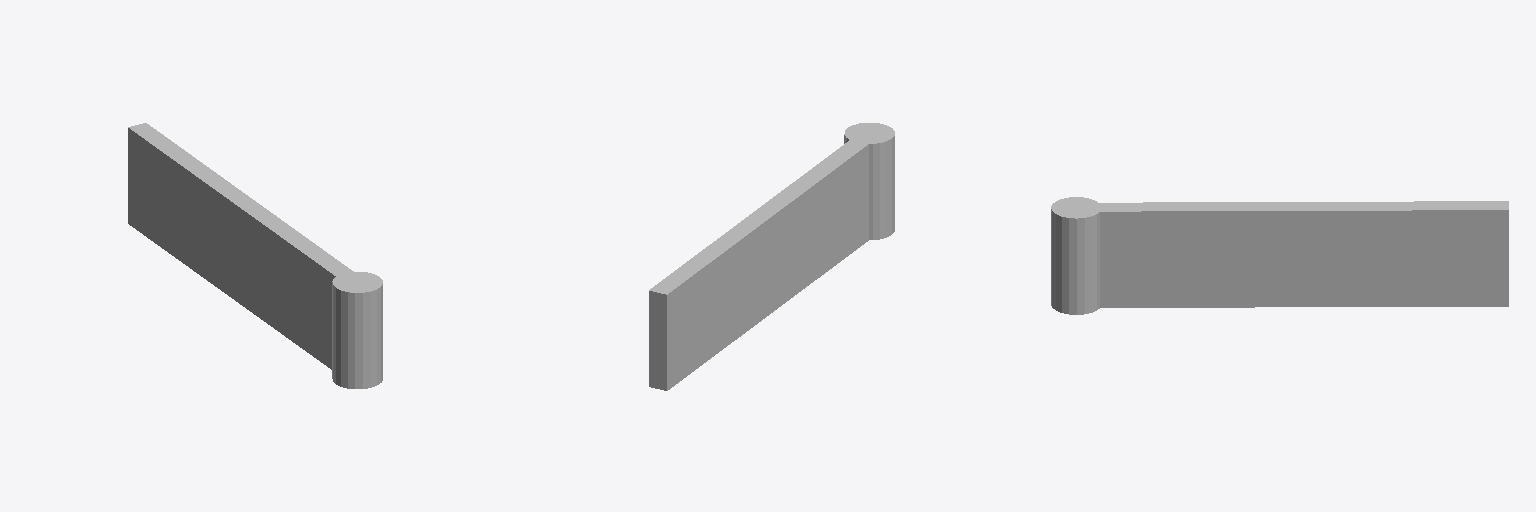
File: Walls8.obj
3 renders of one model, left to right at view 1: azimuth 30°, elevation 25°; view 2: azimuth 150°, elevation 25°; view 3: azimuth 270°, elevation 25°, orthographic.
Visible parts, largest first — view 1: polySurface61; view 2: polySurface61; view 3: polySurface61.
Part boxes in pixels (x1,y1,x2,y2): polySurface61: (128,123,382,388); polySurface61: (649,123,894,390); polySurface61: (1051,197,1508,314).
Size of the model in its own units: 2.4 by 5 by 21.53.